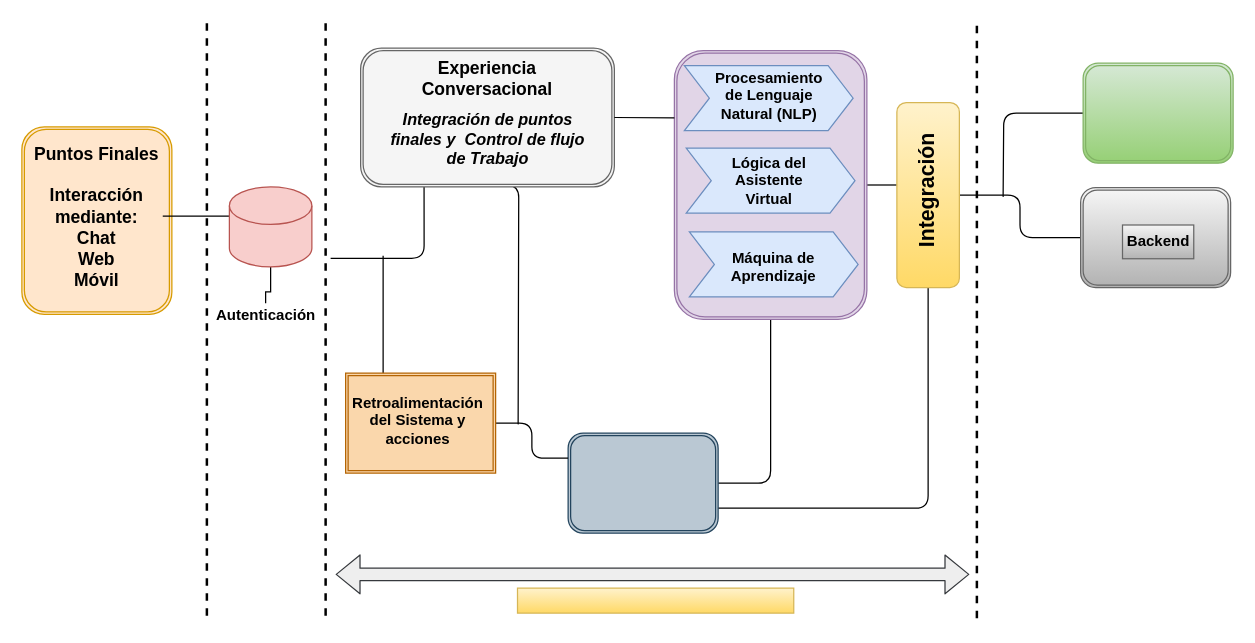
Image size: 1255x643. Some labels were removed from this diagram. Here are the shapes that lost their labels. From the top down, the box of each, then its label:
(1082, 62, 1233, 163): Asistente Virtual
(228, 186, 312, 267): Seguridad
(567, 432, 718, 533): Base de Datos
(516, 587, 794, 613): Plataforma Conversacional
